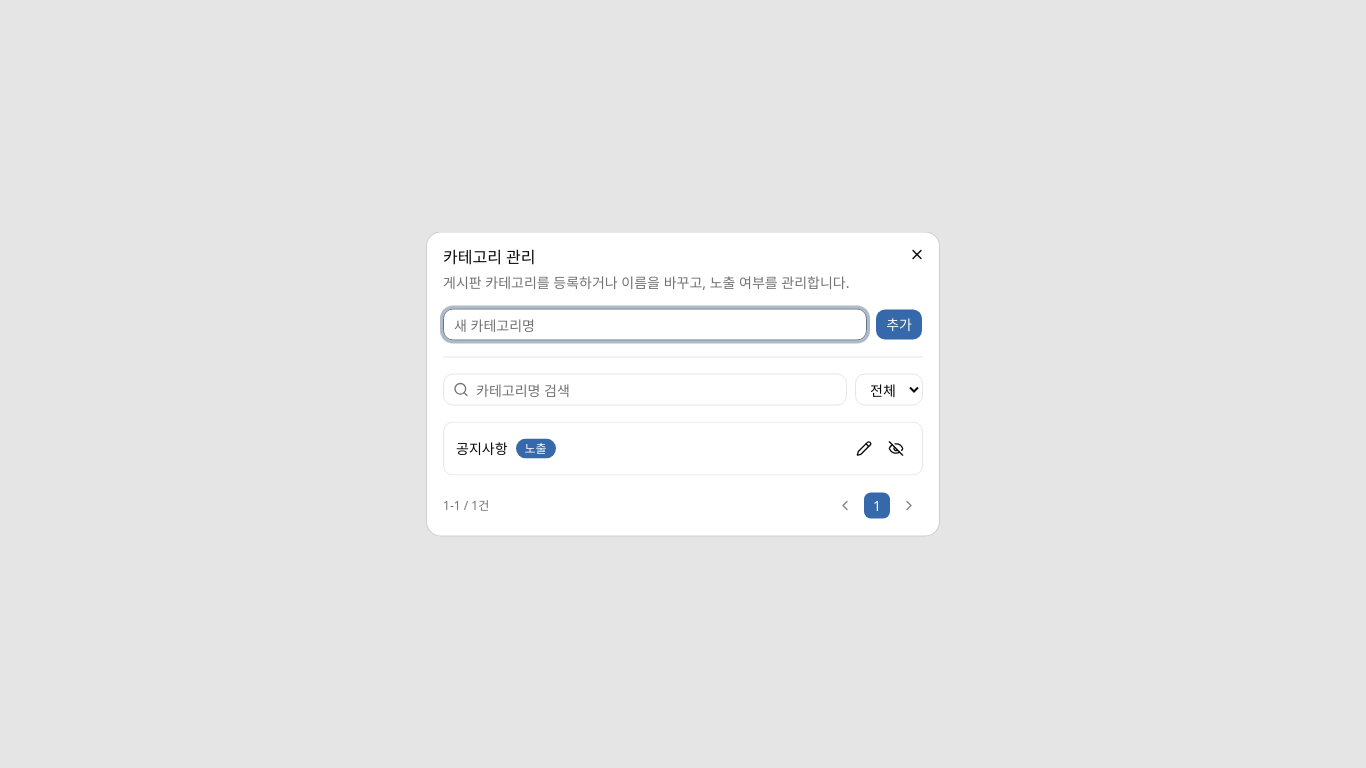
Test: CategoryManagementDialog › 이름수정 중 취소를 누르면 원래 값을 바꾸지 않고 목록 표기로 돌아간다
Check: the text "공지사항" is shown, box [456,438,508,458]
Click the button named "이름수정". click: (864, 448)
box: [850,434,878,462]
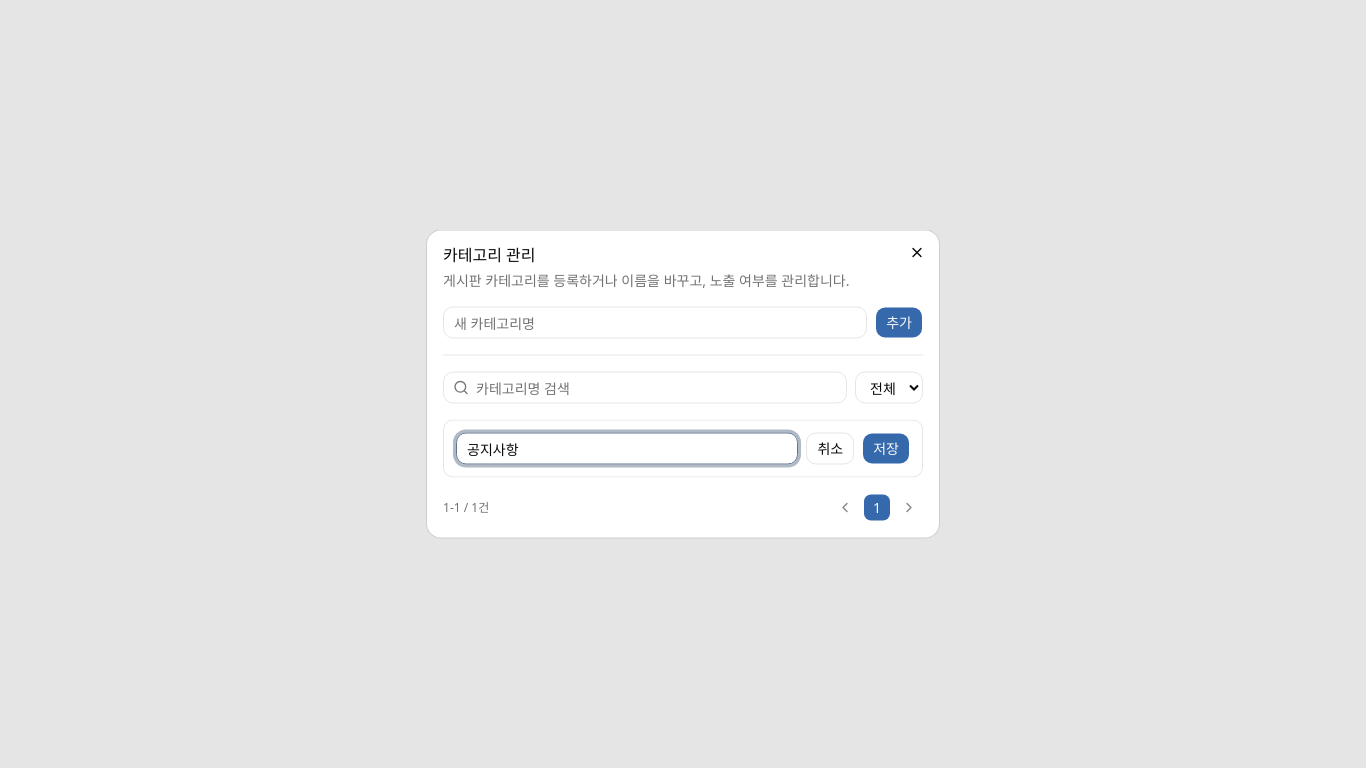
Click the button "취소". click: (830, 448)
box: [806,432,854,464]
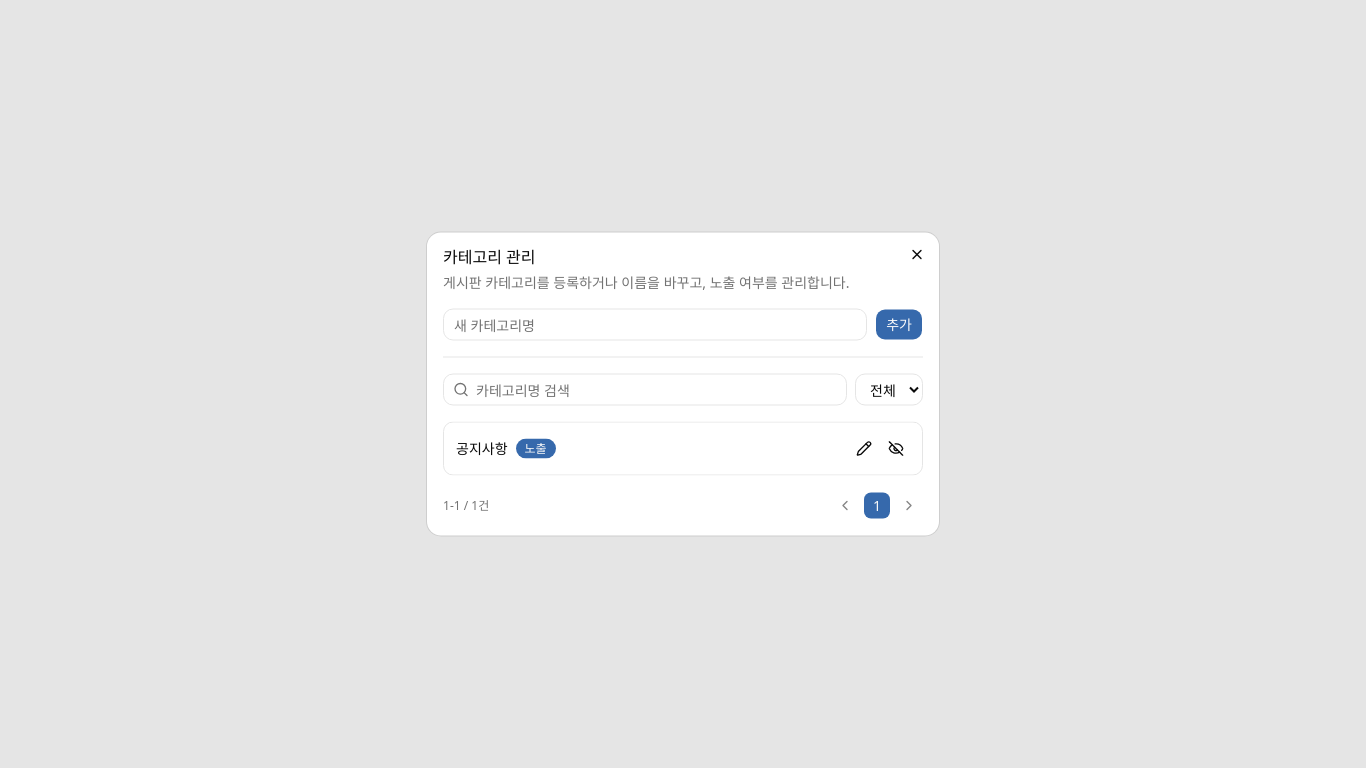
Check: the text "공지사항" is shown, box [456,438,508,458]
